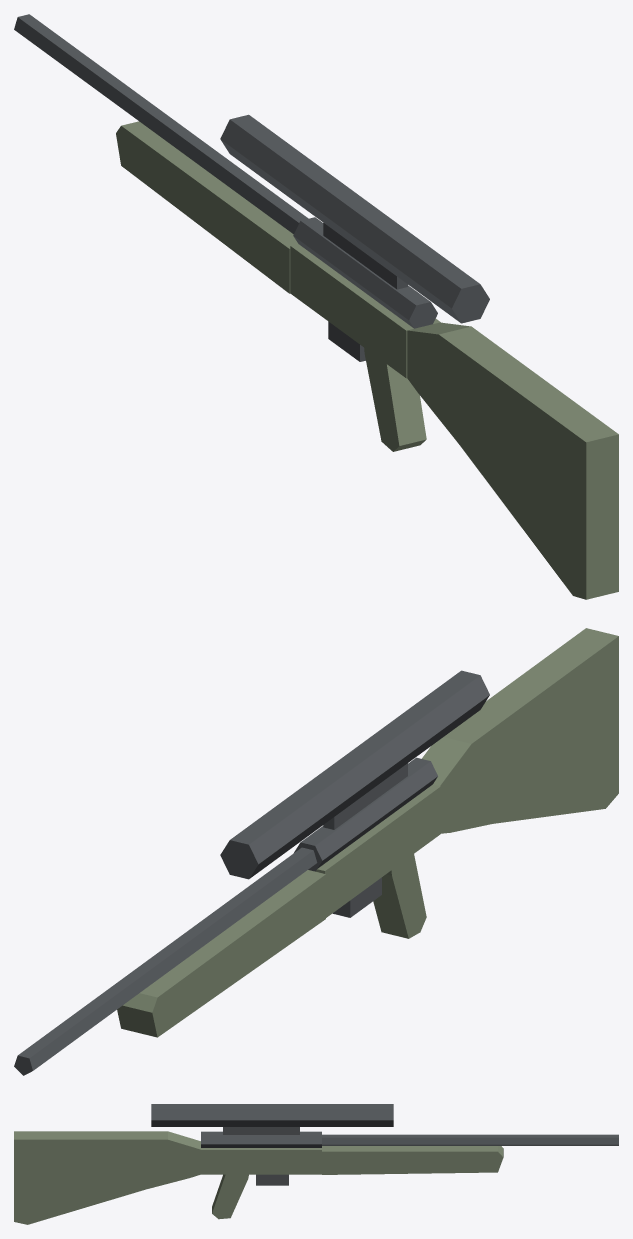
The picture shows the model from 3 angles, top to bottom: view 1: azimuth 30°, elevation 25°; view 2: azimuth 150°, elevation 25°; view 3: azimuth 270°, elevation 25°; orthographic projection. The views are drawn at different scales.
Visible parts, largest first — view 1: body; view 2: body, magazine; view 3: body, magazine.
Part boxes in pixels (x1,y1,x2,y2): body: [14, 14, 618, 599]; body: [14, 628, 618, 1075]; magazine: [332, 877, 381, 917]; body: [14, 1104, 618, 1224]; magazine: [256, 1174, 288, 1185].
Size of the model in its own units: 0.042 by 0.2292 by 1.1.
